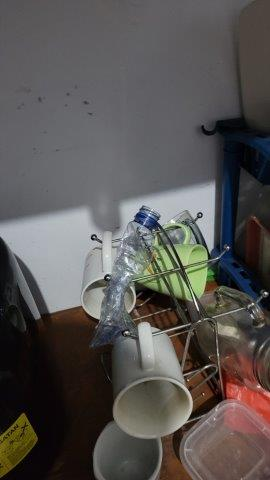botolplastik: (108, 206, 151, 339)
